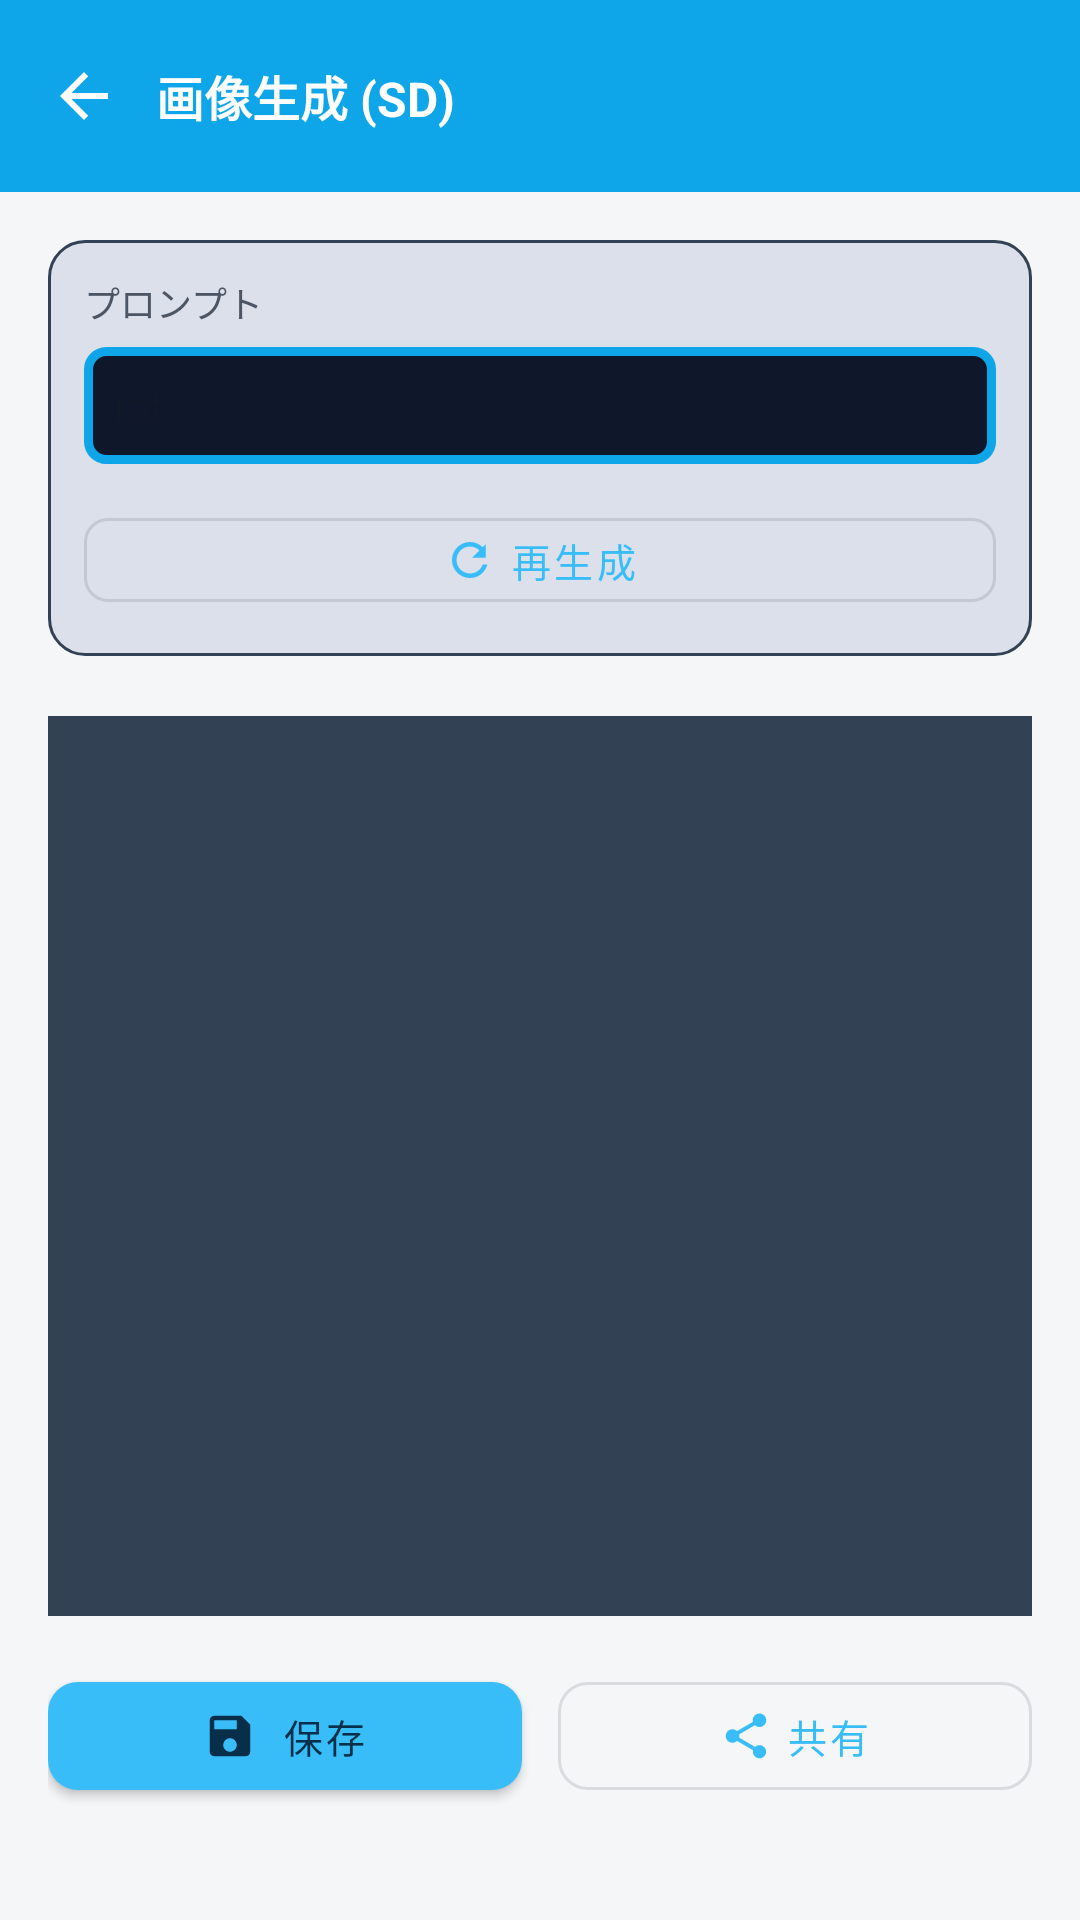

Screen size 1080px×1920px. Icon name, then its box in pixels as (x1, y1, x2, y2):
戻る: (60, 72, 108, 120)
